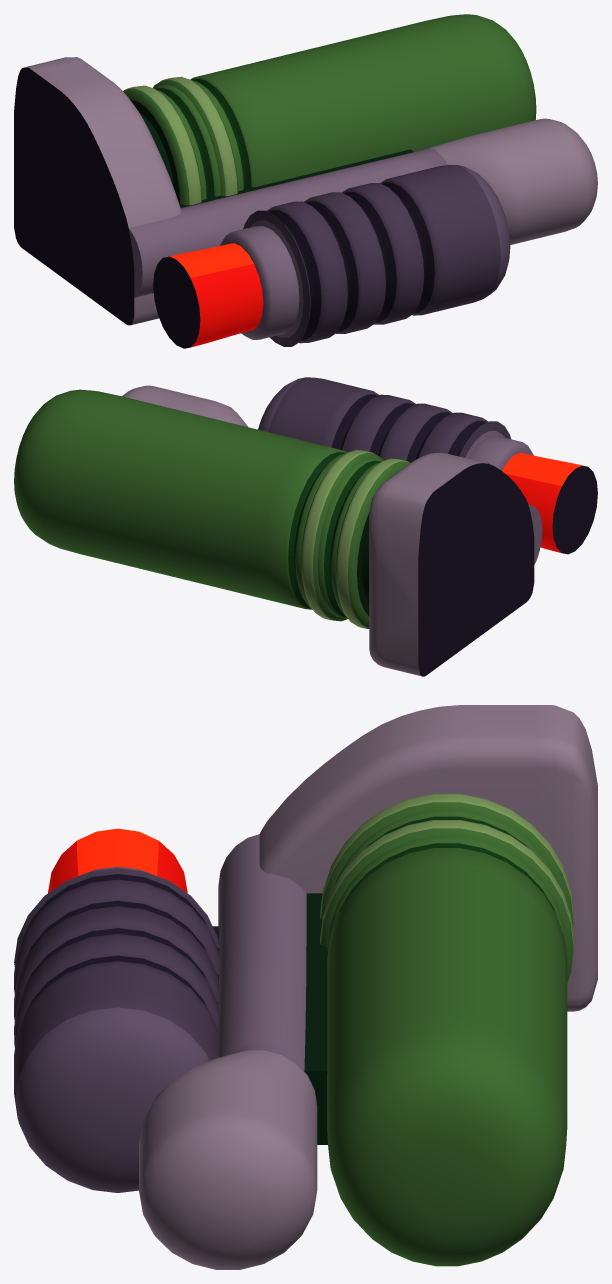
The model's file is tank_pod_right_203.glb.
3 renders of one model, top to bottom at view 1: azimuth 30°, elevation 25°; view 2: azimuth 150°, elevation 25°; view 3: azimuth 270°, elevation 25°, orthographic. The views are drawn at different scales.
Visible parts, largest first — view 1: tank_r.001, coil_r.001, block.001, rail_r.001, core.001, web_tank_r.001; view 2: tank_r.001, block.001, coil_r.001, core.001, rail_r.001; view 3: tank_r.001, coil_r.001, rail_r.001, block.001, core.001, web_tank_r.001.
Part boxes in pixels (<box>): tank_r.001: <box>123,14,536,205</box>; coil_r.001: <box>220,165,510,346</box>; block.001: <box>14,57,181,325</box>; rail_r.001: <box>128,118,597,297</box>; core.001: <box>153,243,263,348</box>; web_tank_r.001: <box>179,149,413,207</box>; tank_r.001: <box>14,389,410,628</box>; block.001: <box>369,453,534,676</box>; coil_r.001: <box>258,377,533,470</box>; core.001: <box>502,452,597,554</box>; rail_r.001: <box>122,385,542,564</box>; tank_r.001: <box>320,793,574,1266</box>; coil_r.001: <box>14,866,219,1192</box>; rail_r.001: <box>139,834,317,1269</box>; block.001: <box>259,705,597,1011</box>; core.001: <box>48,828,187,892</box>; web_tank_r.001: <box>304,893,328,1144</box>.
Size of the model in its own units: 23.65 by 9.55 by 18.
